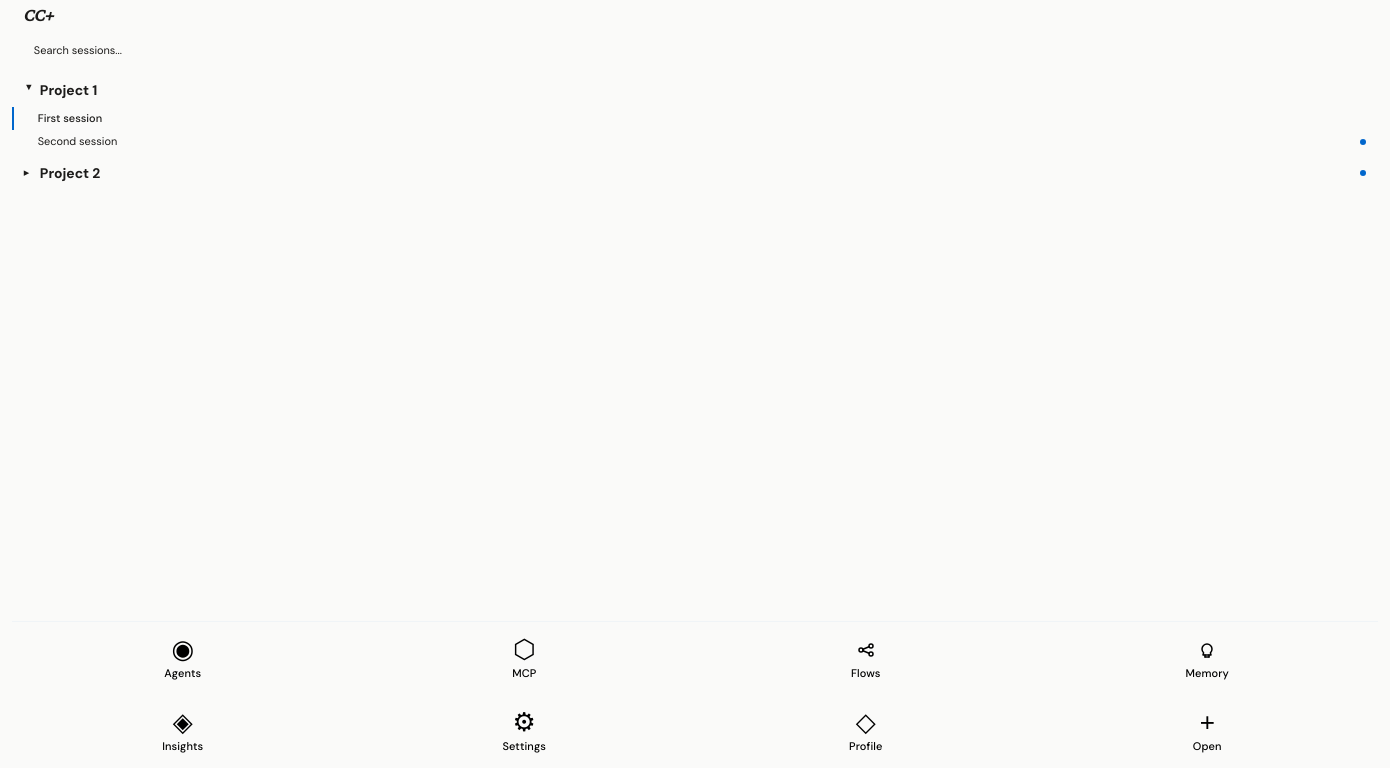
Test: ProjectSidebar Search Integration › returns to normal session list when search cleared
// Perform search
Type "test" into the field with placeholder "Search sessions..." at (695, 50), box [24,37,1366,63]
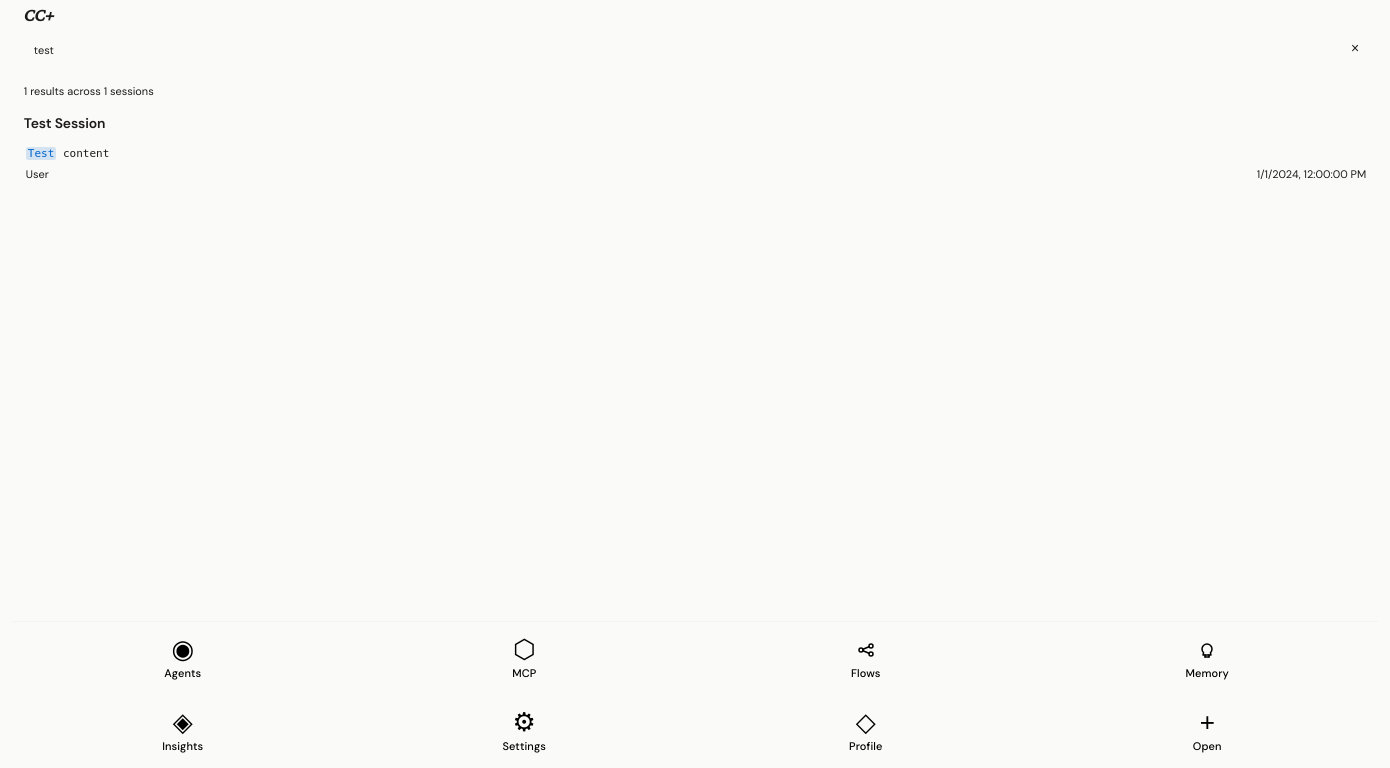
Expected: the text "1 results across 1 sessions" is shown, [24,84,154,98]
// Clear search
Click the button named "Clear search" at (1355, 49), box [1348,39,1362,59]
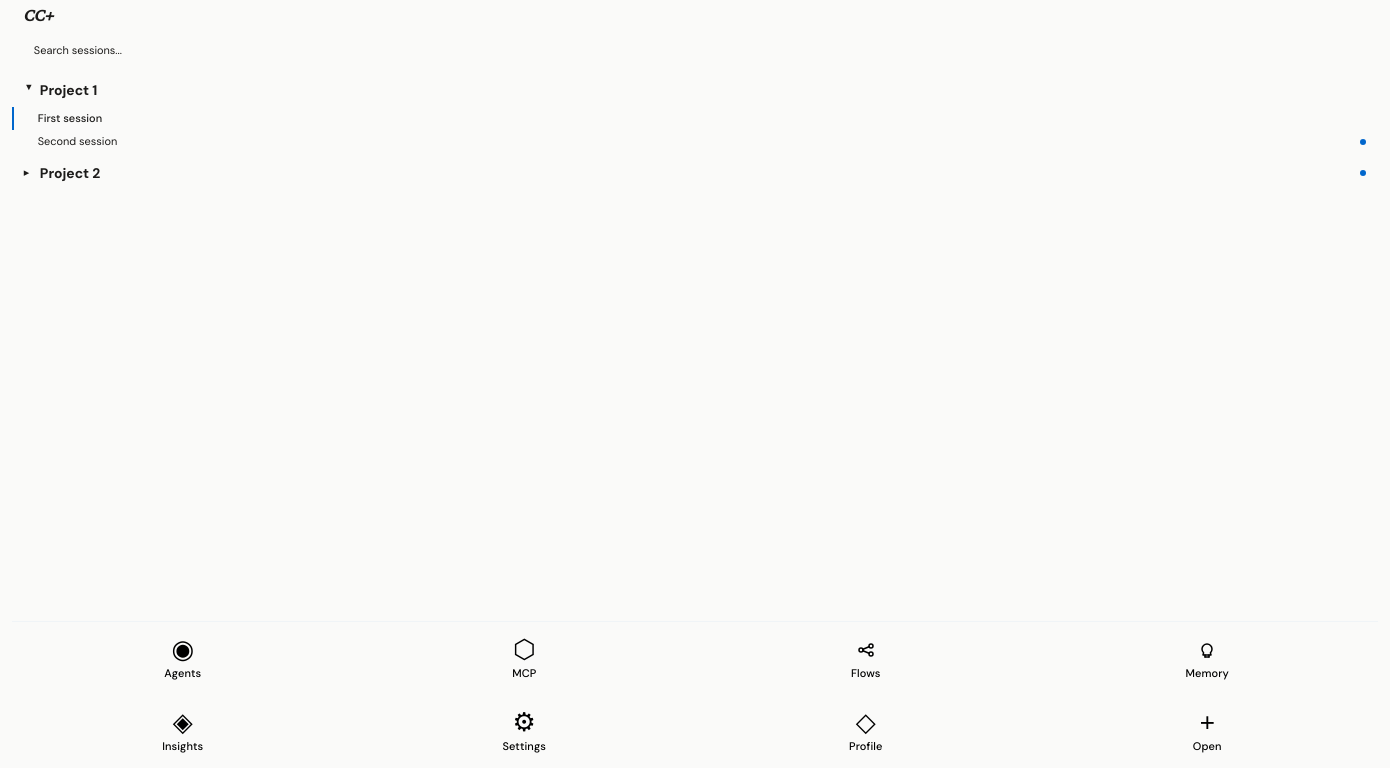
Expected: the text "1 results across 1 sessions" is gone
Expected: the text "Project 1" is shown, [40,81,98,99]
